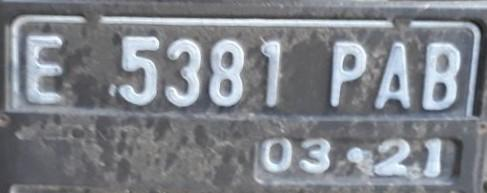clone-license-plate: (8, 9, 483, 188)
